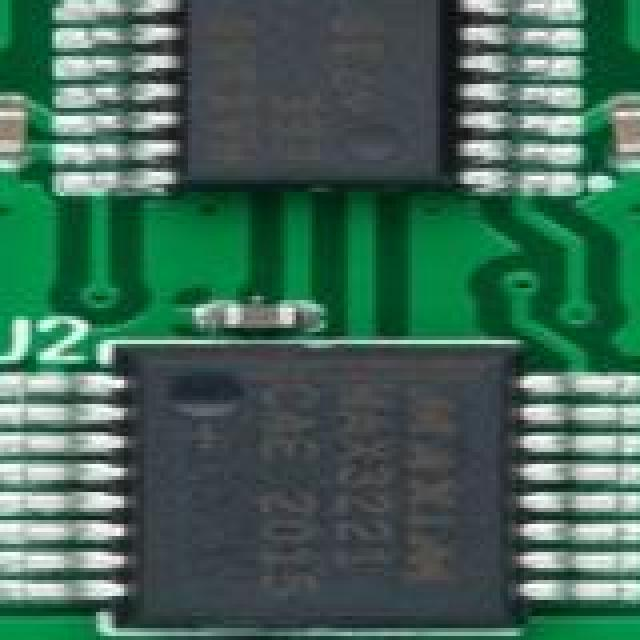IC: (48, 336, 588, 640), (76, 0, 584, 204)
capacitor: (212, 296, 318, 334), (0, 108, 32, 168), (616, 104, 640, 172)
